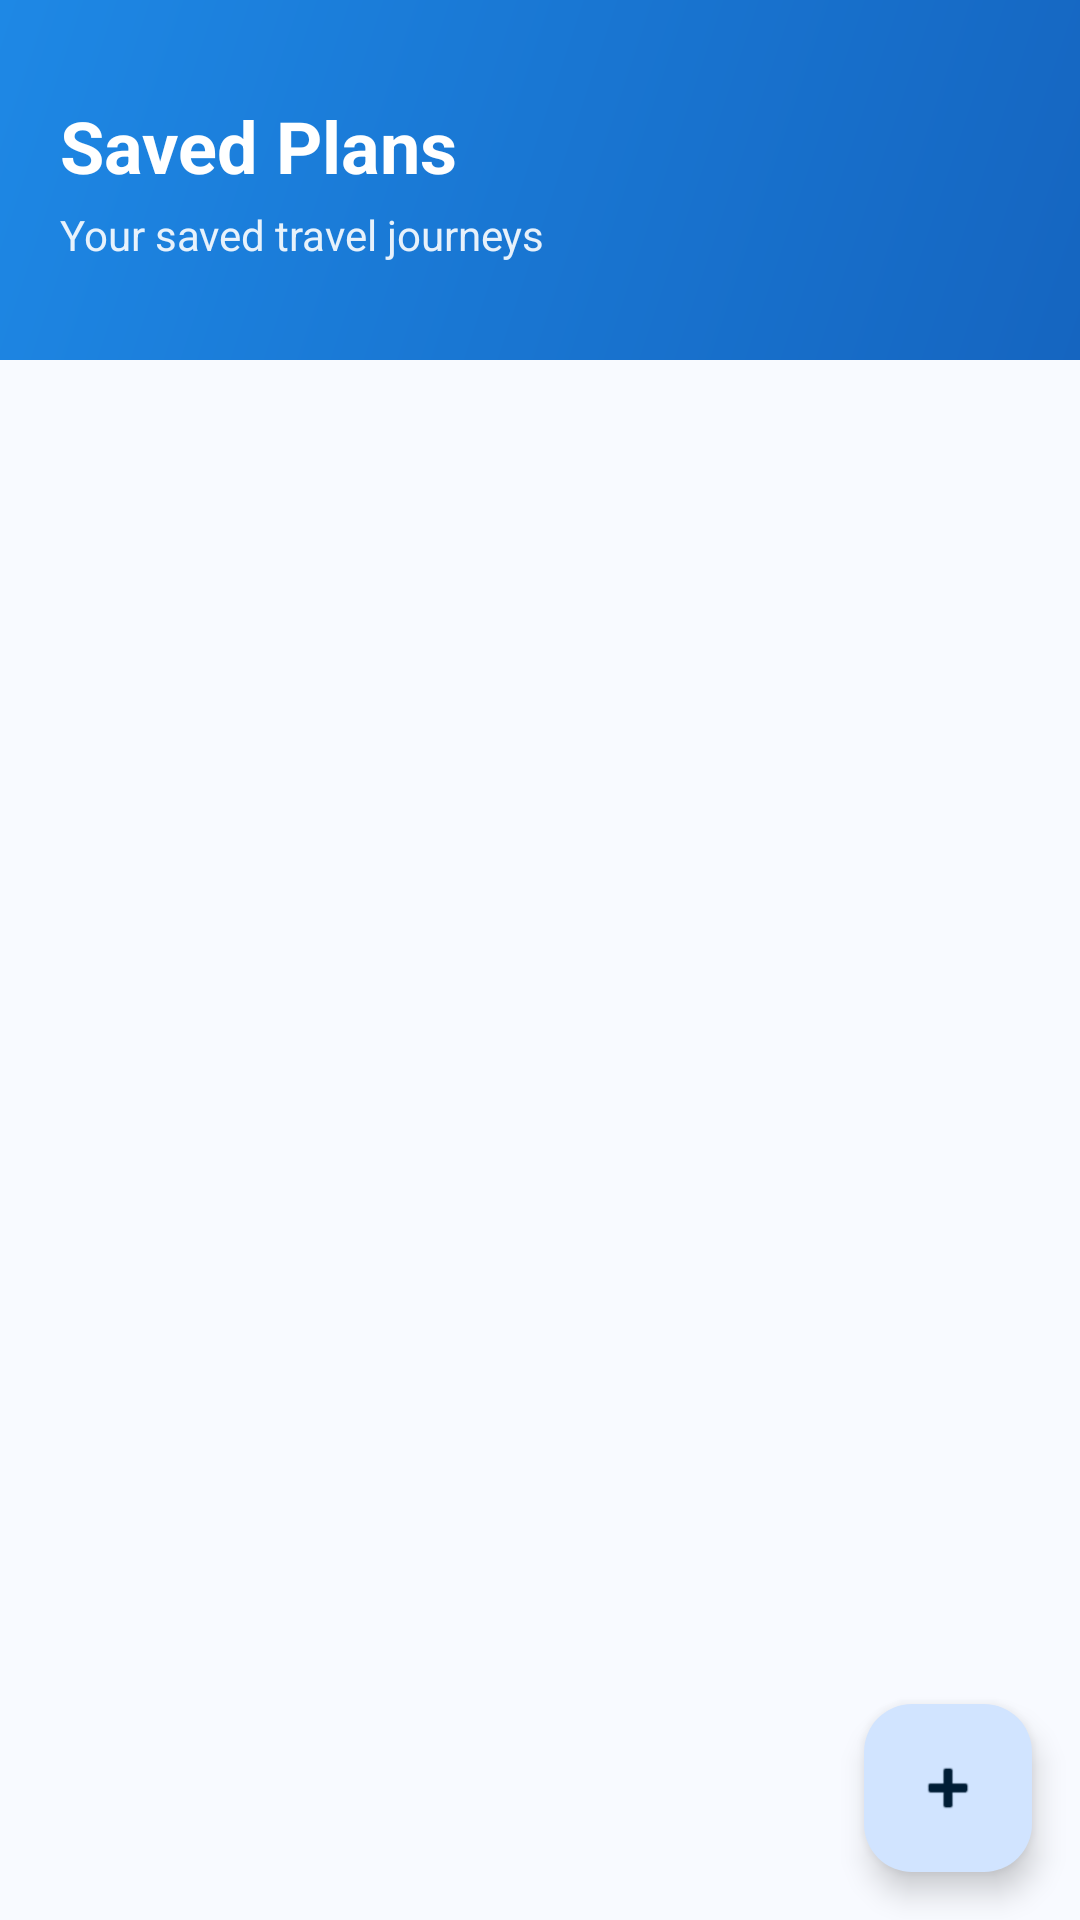

Icon bounding boxes for this 1080 × 1920 phone screenshot, format (x1, y1, x2, y2):
Add Plan: (864, 1704, 1032, 1872)
